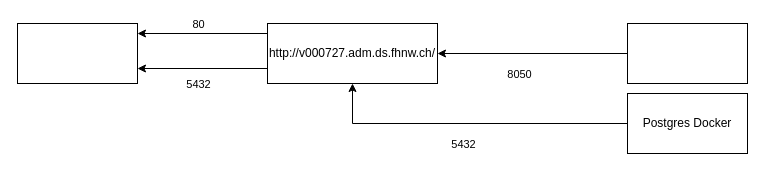
This 765x171 diagram has some shape labels left out. Each missing label, with the box of its shape:
Client: (16, 22, 138, 84)
Python Docker: (626, 22, 748, 84)
